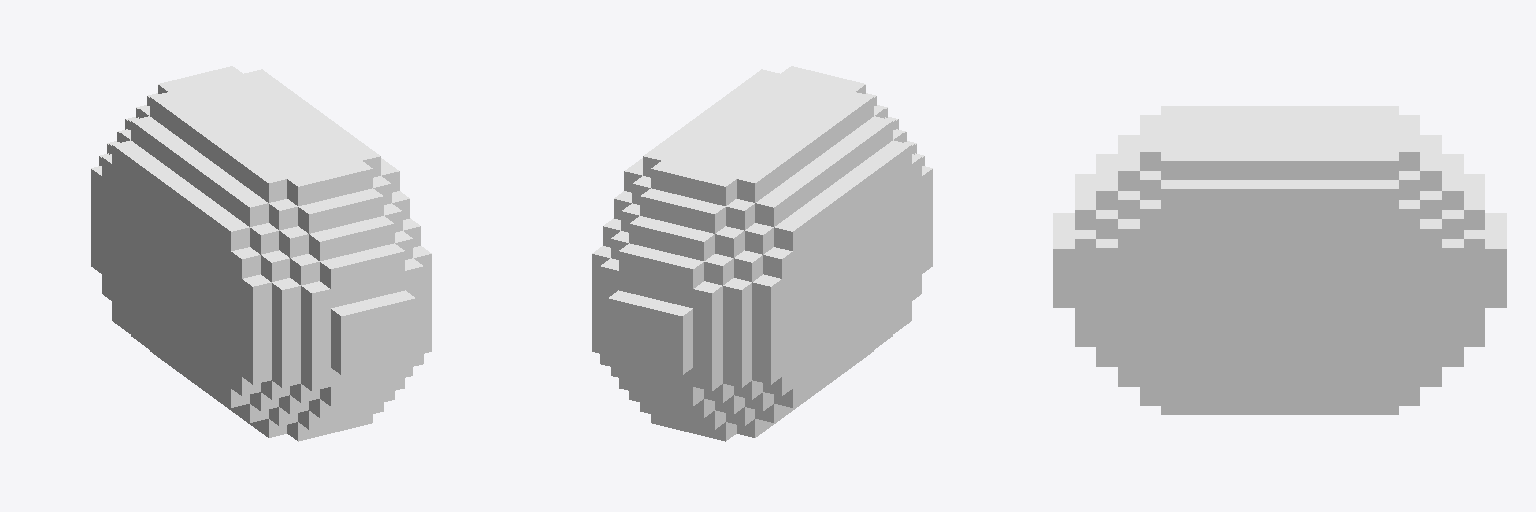
The model's file is bombeman-7-head.obj.
3 views of the same model, side by side, from view 1: azimuth 30°, elevation 25°; view 2: azimuth 150°, elevation 25°; view 3: azimuth 270°, elevation 25° (orthographic).
Parts seen in each view (by area): view 1: head; view 2: head; view 3: head.
Boxes of the visible parts, x1=… form: head: x1=91, y1=66, x2=431, y2=441; head: x1=592, y1=66, x2=932, y2=441; head: x1=1053, y1=106, x2=1506, y2=414.
Bounding box in the file's own units: 0.9 × 1.3 × 2.1.